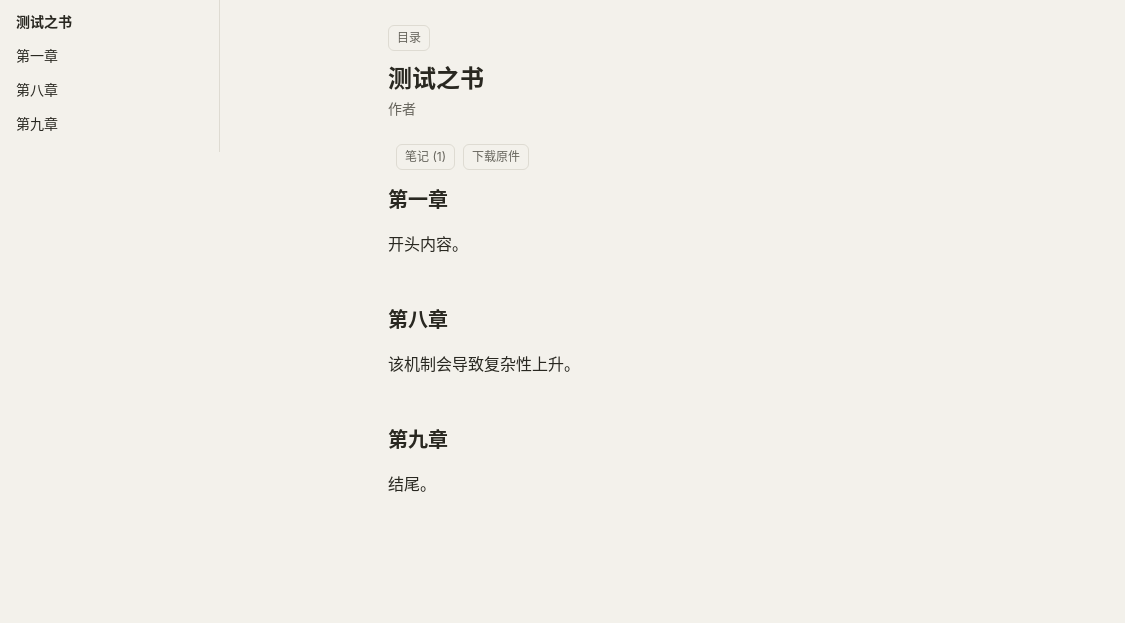
Test case: highlighting › lists existing notes in the notes panel
This screenshot has width=1125, height=623.
Check: the heading "测试之书" is shown, box [388,64,484,93]
Click the button "笔记 (1)" at (426, 157), box [396,144,455,170]
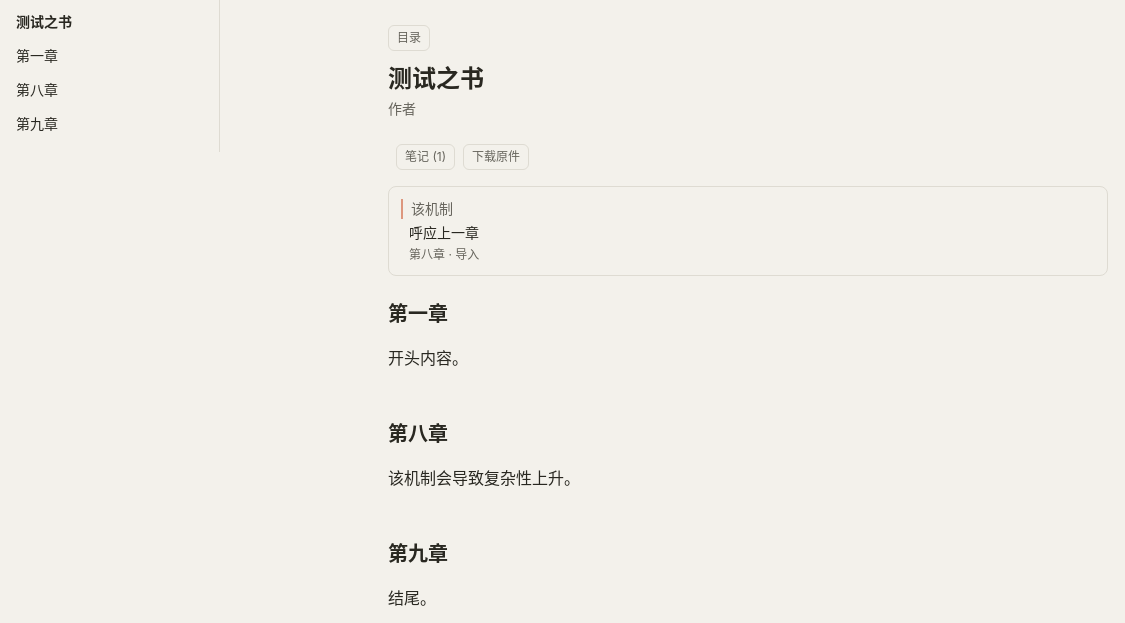
Check: the text "呼应上一章" is shown, box [409,224,479,241]
Check: the text "第八章 · 导入" is shown, box [409,247,479,262]
